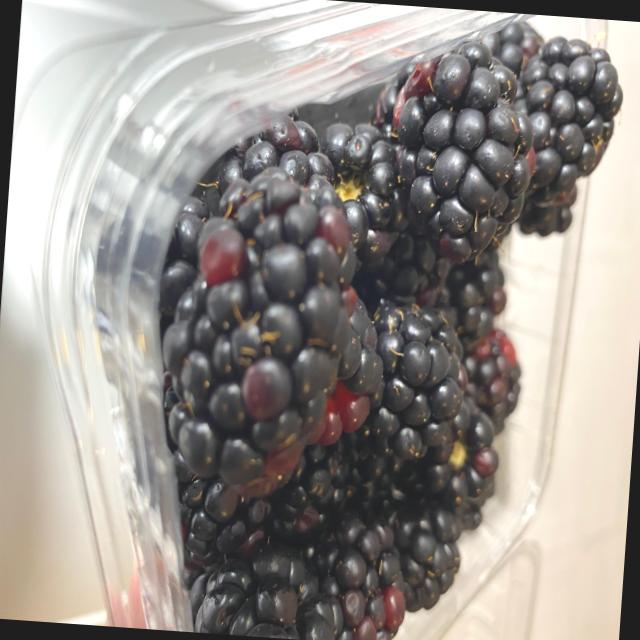blackberries: (137, 2, 623, 640)
